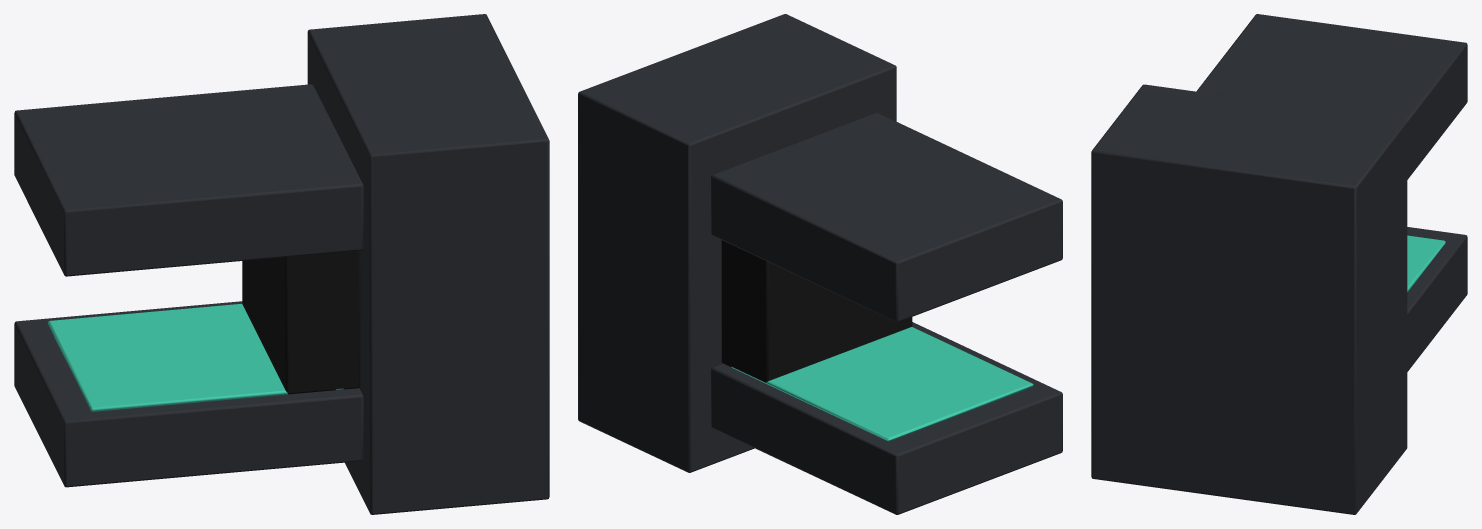
Rendered from holder_1.obj.
3 views of the same model, side by side, from view 1: azimuth 30°, elevation 25°; view 2: azimuth 150°, elevation 25°; view 3: azimuth 270°, elevation 25° (orthographic). The views are drawn at different scales.
Parts seen in each view (by area): view 1: holder_1; view 2: holder_1; view 3: holder_1.
Part boxes in pixels (bbox=[...]): holder_1: bbox=[14, 14, 549, 514]; holder_1: bbox=[578, 14, 1062, 514]; holder_1: bbox=[1091, 14, 1467, 514].
Bounding box in the file's own units: 0.1796 × 0.13 × 0.1348.
